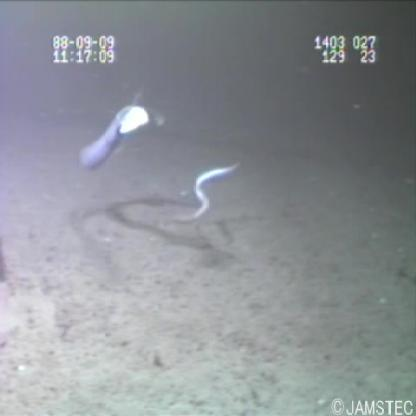Bio: (73, 87, 169, 178), (170, 158, 243, 236)
